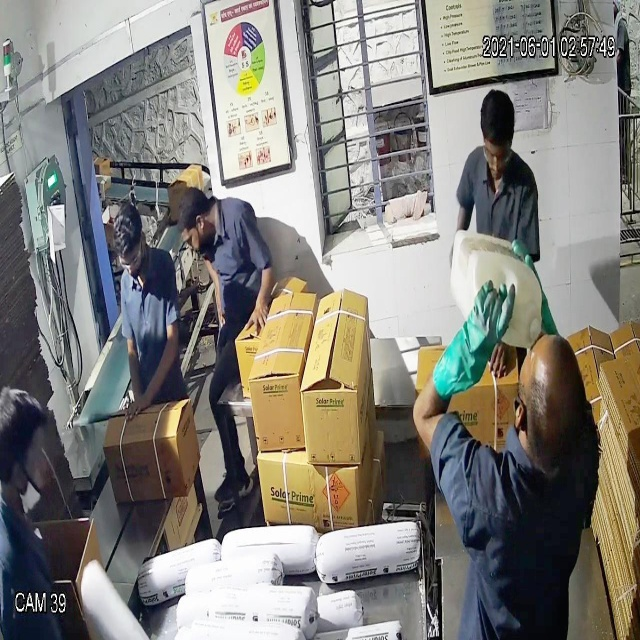Gafas: (109, 238, 149, 279)
